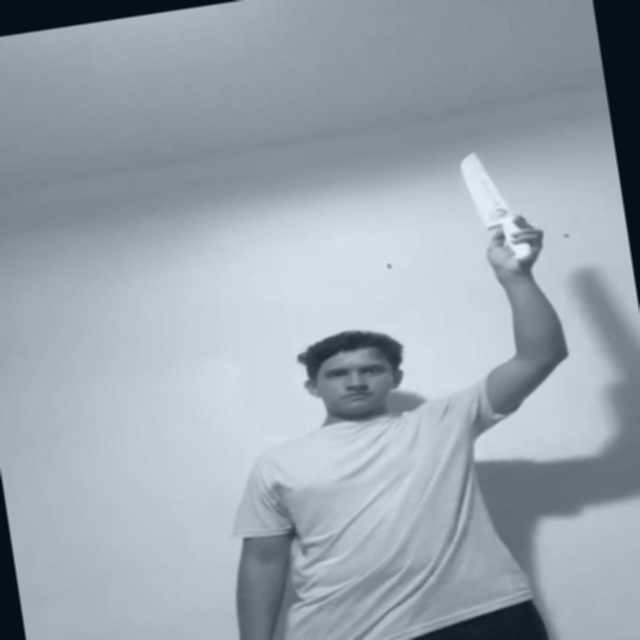Sharp-Object: (457, 147, 511, 226)
